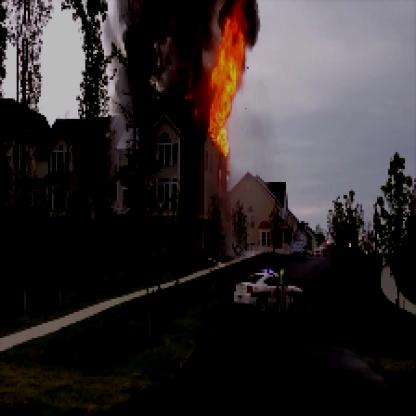Fire: (208, 2, 251, 160)
Smoke: (113, 2, 219, 121)
